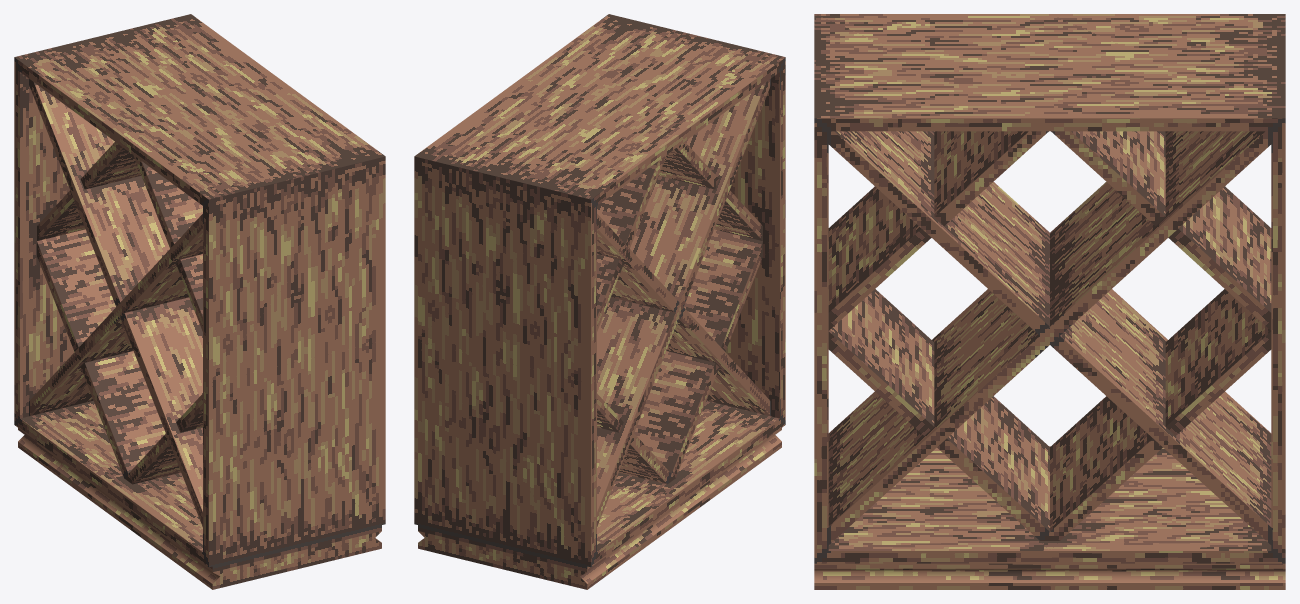
The model's file is wine cabinet.glb.
The picture shows the model from 3 angles, left to right: view 1: azimuth 30°, elevation 25°; view 2: azimuth 150°, elevation 25°; view 3: azimuth 270°, elevation 25°; orthographic projection. The views are drawn at different scales.
Visible parts, largest first — view 1: crate; view 2: crate; view 3: crate.
Boxes of the visible parts, bbox=[...] form: crate: bbox=[14, 14, 385, 589]; crate: bbox=[414, 14, 785, 589]; crate: bbox=[814, 14, 1285, 589].
Size of the model in its own units: 0.787 by 1.66 by 1.5.
Materials: 1 (1 with a texture image).
